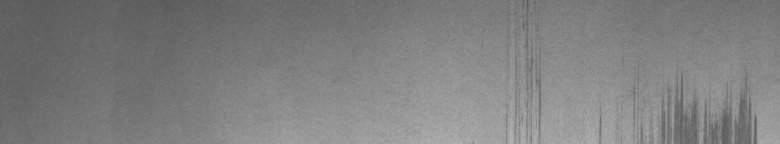ka: (506, 4, 761, 136)
